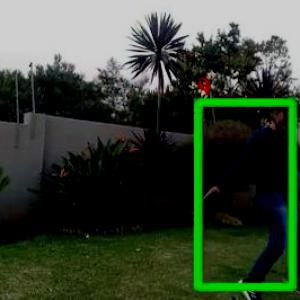land: (203, 98, 299, 299)
